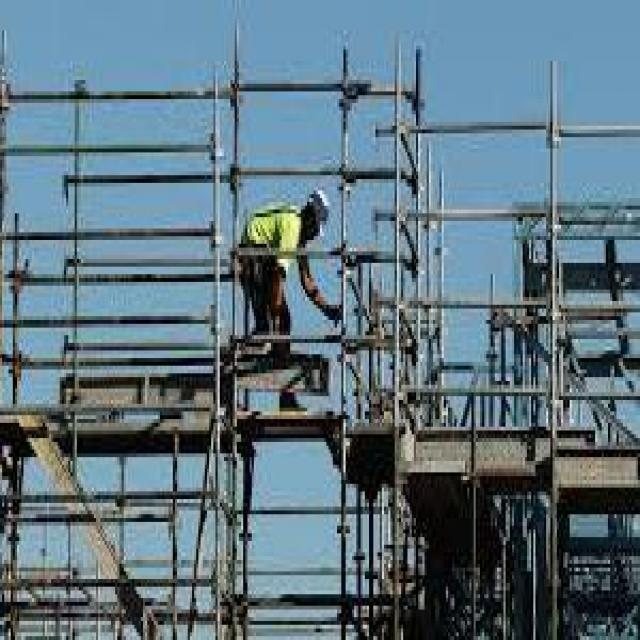Reflective-Jacket: (241, 194, 318, 301)
Safety-Helmet: (299, 179, 335, 232)
